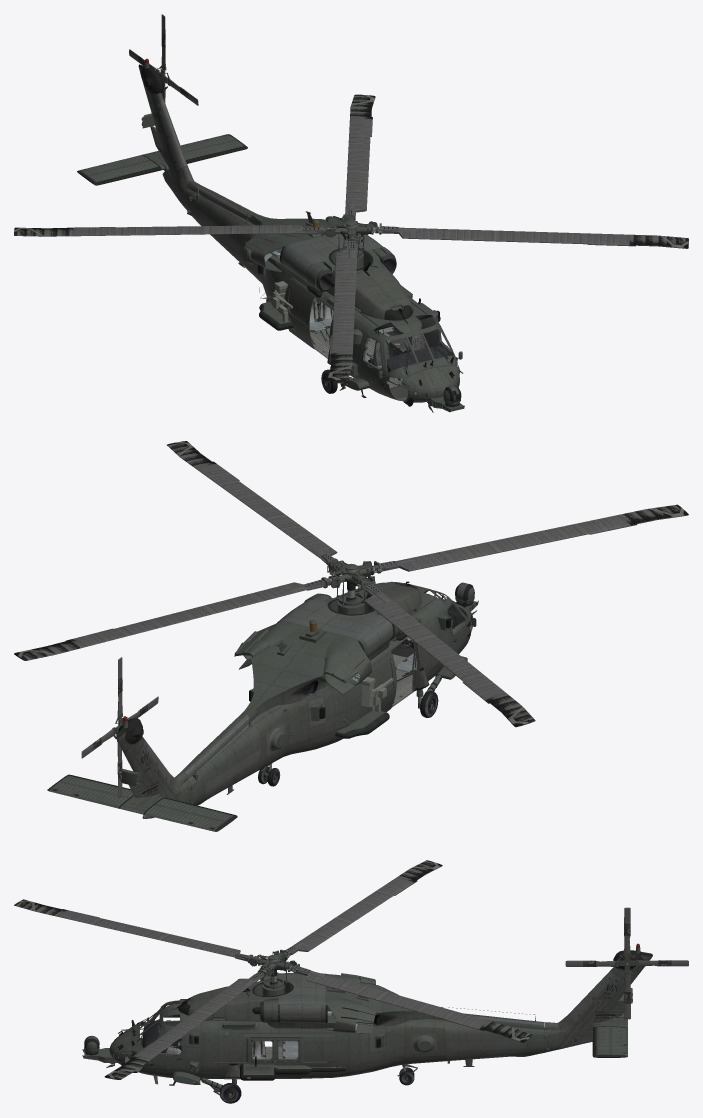
Rendered from mh-60r_seahawk.glb.
3 renders of one model, top to bottom at view 1: azimuth 30°, elevation 25°; view 2: azimuth 150°, elevation 25°; view 3: azimuth 270°, elevation 25°, orthographic. The views are drawn at different scales.
Parts seen in each view (by area): view 1: Main_Rotor, Object_9, Object_20, Object_12, Object_13, Object_18, Object_19, Object_2, Object_17, Object_5, Object_8, Object_10 (+4 smaller); view 2: Main_Rotor, Object_9, Object_20, Object_12, Object_13, Object_18, Object_8, Object_2, Object_11, Object_17, Tail_Rotor, Object_19 (+4 smaller); view 3: Main_Rotor, Object_9, Object_21, Object_19, Object_13, Object_20, Object_12, Object_18, Object_10, Tail_Rotor, Object_17, Object_16 (+7 smaller).
Boxes of the visible parts, <box> form: Main_Rotor: <box>14,94,688,380</box>; Object_9: <box>187,185,459,391</box>; Object_20: <box>188,192,425,388</box>; Object_12: <box>77,69,463,412</box>; Object_13: <box>138,62,459,404</box>; Object_18: <box>154,65,463,406</box>; Object_19: <box>187,195,459,403</box>; Object_2: <box>309,298,459,400</box>; Object_17: <box>155,66,462,386</box>; Object_5: <box>311,301,449,372</box>; Object_8: <box>192,185,457,404</box>; Object_10: <box>199,185,455,397</box>; Main_Rotor: <box>14,441,688,727</box>; Object_9: <box>180,581,470,803</box>; Object_20: <box>188,561,476,805</box>; Object_12: <box>47,589,477,831</box>; Object_13: <box>116,592,468,818</box>; Object_18: <box>112,585,472,770</box>; Object_8: <box>184,582,469,803</box>; Object_2: <box>387,581,472,706</box>; Object_11: <box>119,578,478,794</box>; Object_17: <box>113,577,476,741</box>; Tail_Rotor: <box>81,657,158,797</box>; Object_19: <box>191,585,472,804</box>; Main_Rotor: <box>14,860,532,1079</box>; Object_9: <box>127,973,547,1084</box>; Object_21: <box>110,947,445,1079</box>; Object_19: <box>109,1008,547,1084</box>; Object_13: <box>85,947,652,1095</box>; Object_20: <box>121,958,548,1060</box>; Object_12: <box>82,951,649,1084</box>; Object_18: <box>110,953,638,1073</box>; Object_10: <box>109,972,547,1080</box>; Tail_Rotor: <box>565,907,688,1019</box>; Object_17: <box>147,953,637,1069</box>; Object_16: <box>149,954,304,1064</box>.
Bounding box in the file's own units: 1690 × 647 × 2196.
4 materials, 3 textured.
